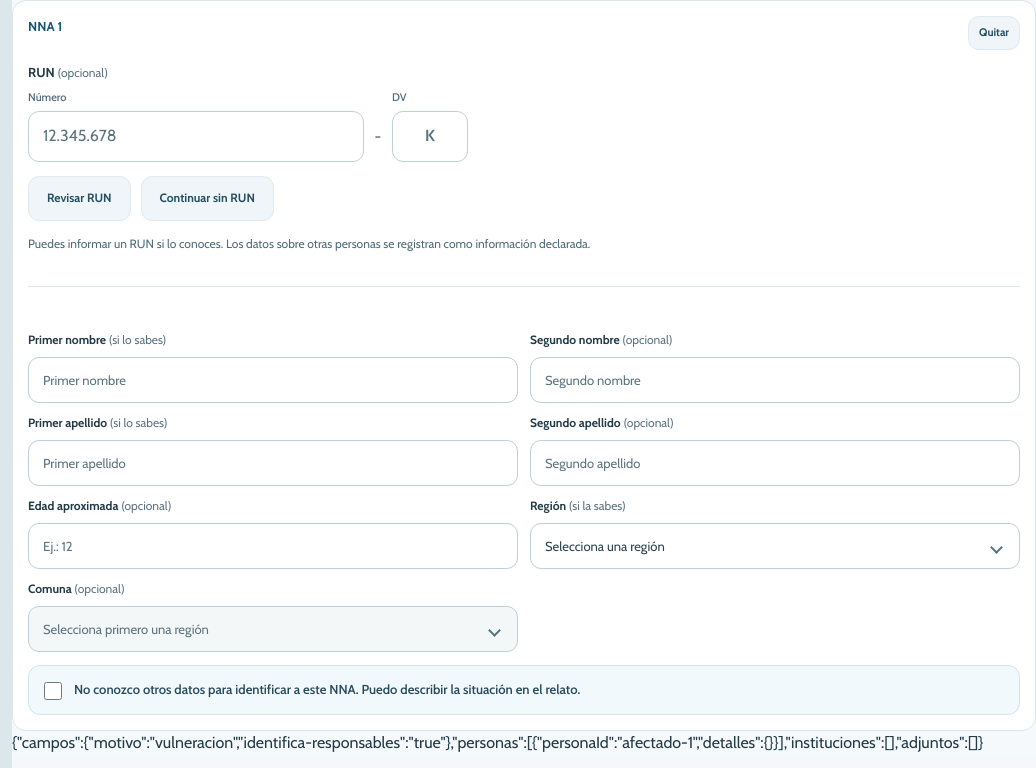
Test: Tarjetas adultas del mockup › NNA admite datos desconocidos y comuna dependiente sin nombres obligatorios
Select "Metropolitana de Santiago" in the dropdown labelled "Región (si la sabes)" at (775, 546), box 530,523 -> 1020,569
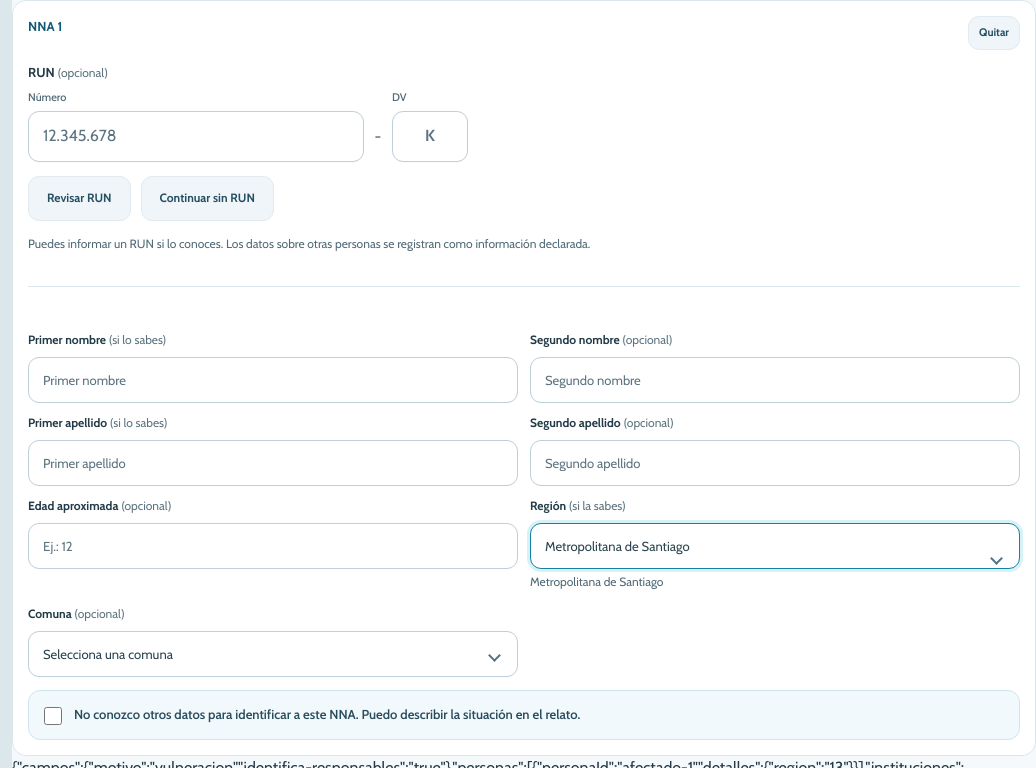
Select "Santiago" in the dropdown labelled "Comuna (opcional)" at (273, 654), box 28,631 -> 518,677
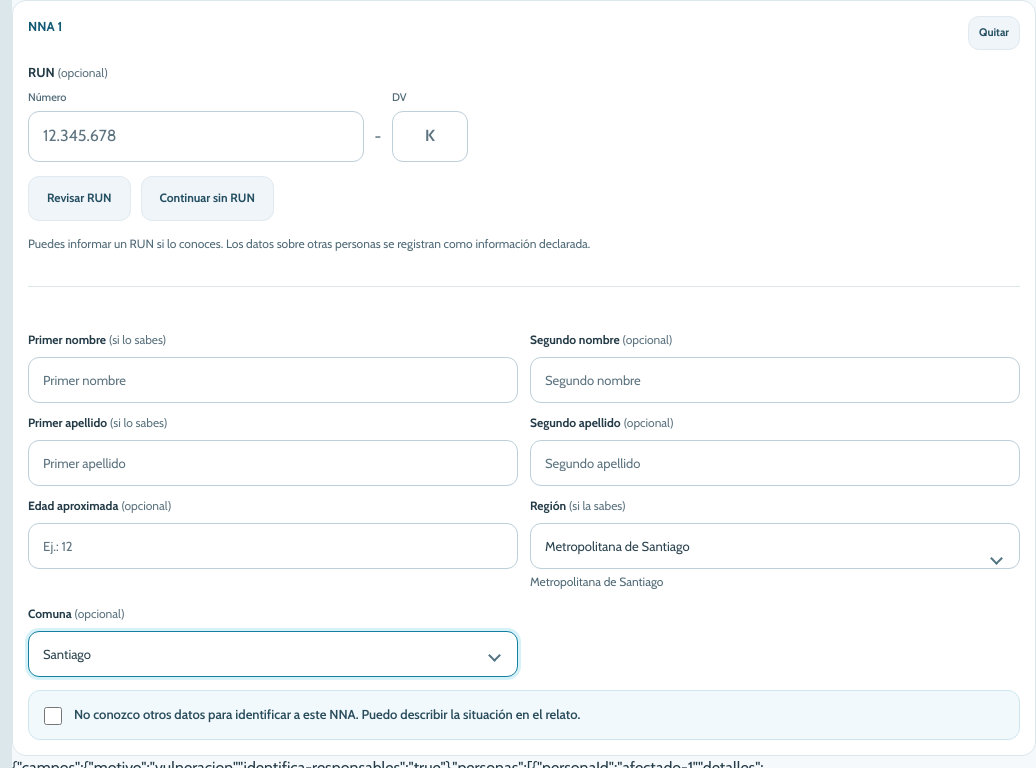
Select "Arica y Parinacota" in the dropdown labelled "Región (si la sabes)" at (775, 546), box 530,523 -> 1020,569
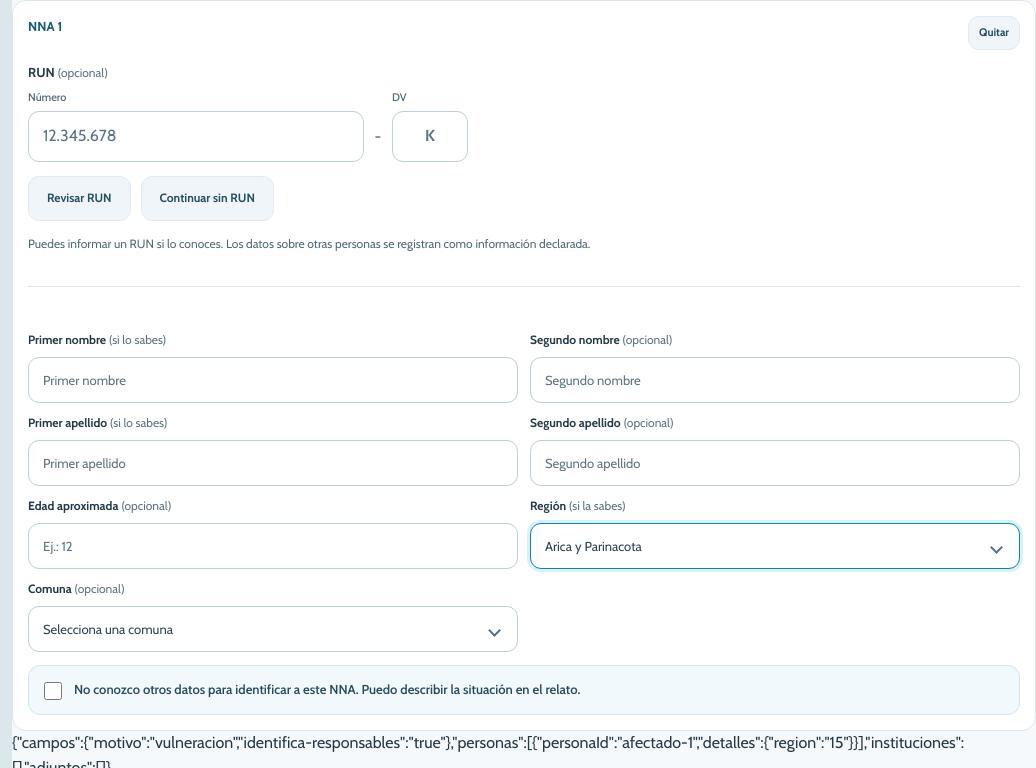
Click the checkbox labelled "No conozco otros datos" at (53, 691), box 44,682 -> 62,700
(page scrolled)
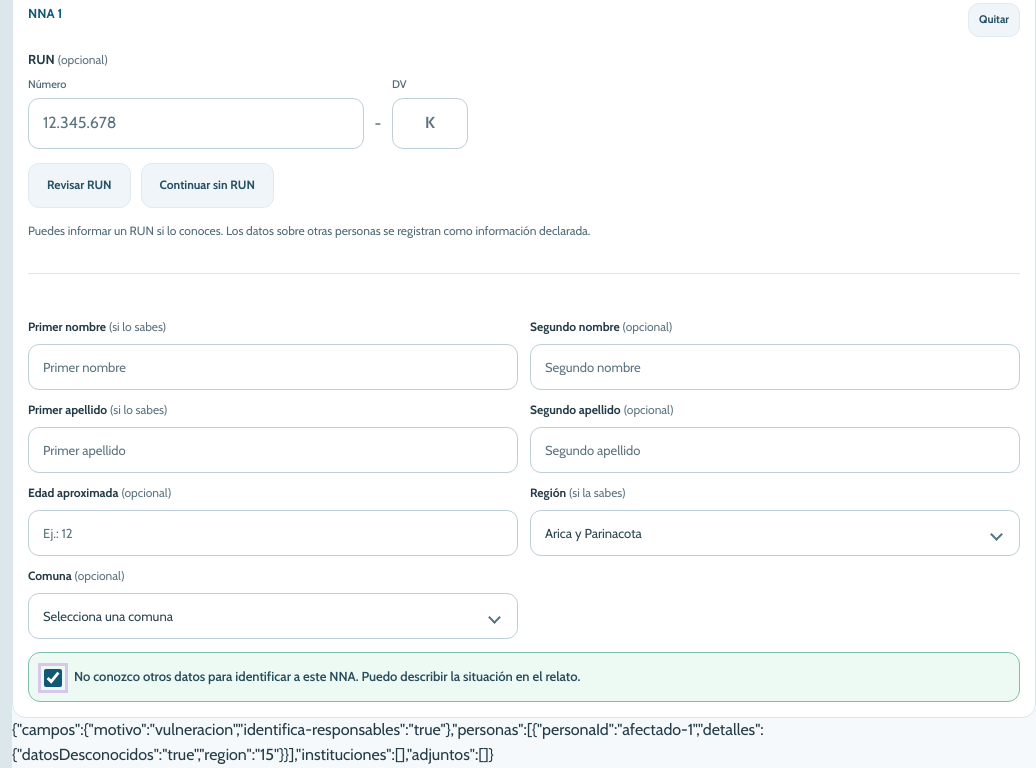
Now the text named "Captura controlada" shows "\"datosDesconocidos\":\"true\"", box 12,720 -> 764,764
